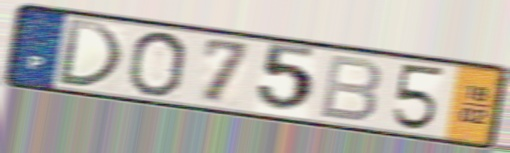5: (254, 41, 320, 118), (390, 61, 449, 132)
7: (200, 36, 251, 107)
B: (316, 52, 385, 125)
D: (54, 16, 126, 91)
O: (124, 30, 190, 99)
